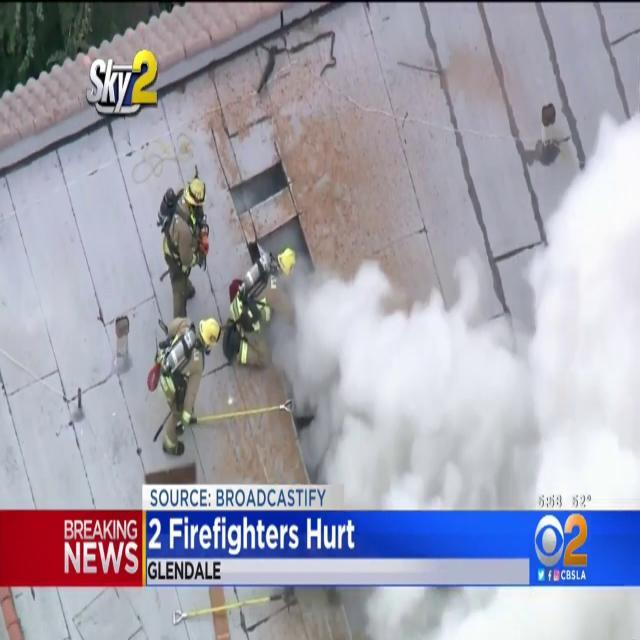Smoke: (268, 223, 638, 506)
